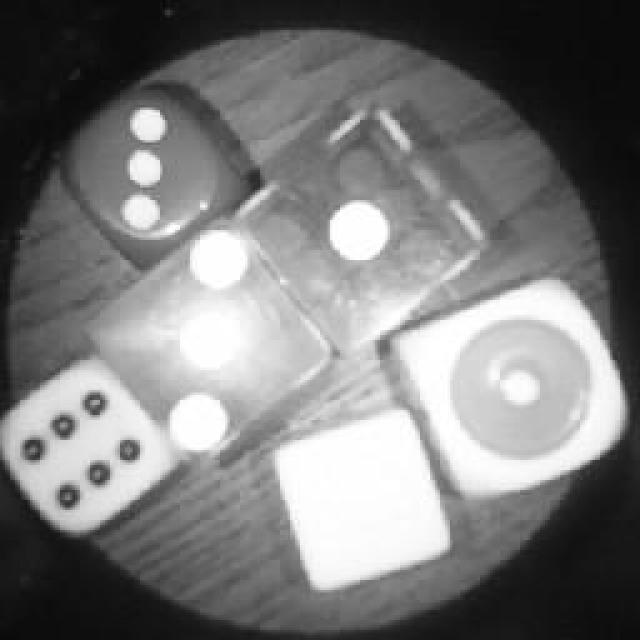dice_1: (232, 97, 492, 365), (382, 275, 638, 497)
dice_3: (82, 212, 338, 478), (58, 80, 250, 260)
dice_6: (0, 360, 180, 545)
